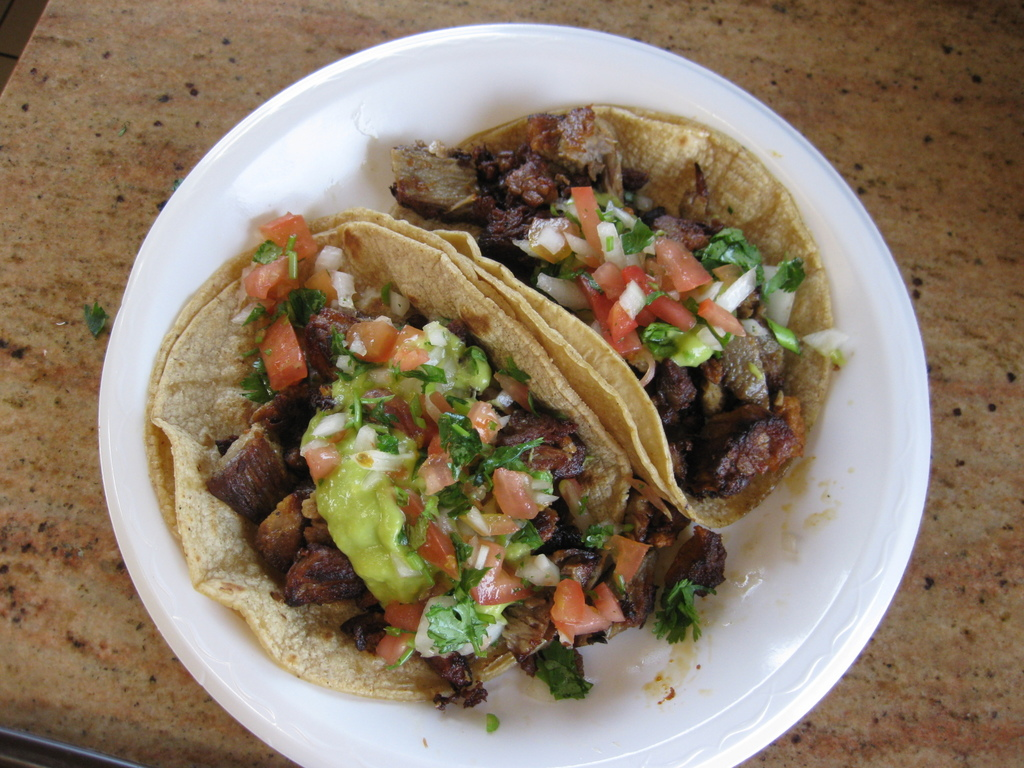taco: (143, 206, 634, 699), (387, 95, 844, 534)
